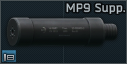MP9 9x19 sound suppressor: (0, 0, 127, 64)
